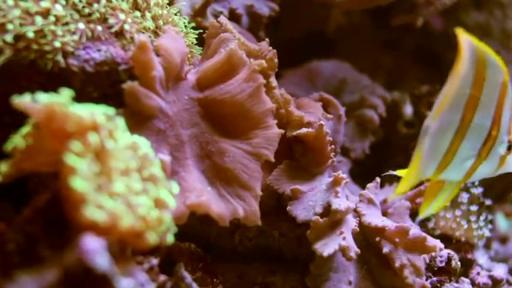Fish: (388, 27, 511, 221)
